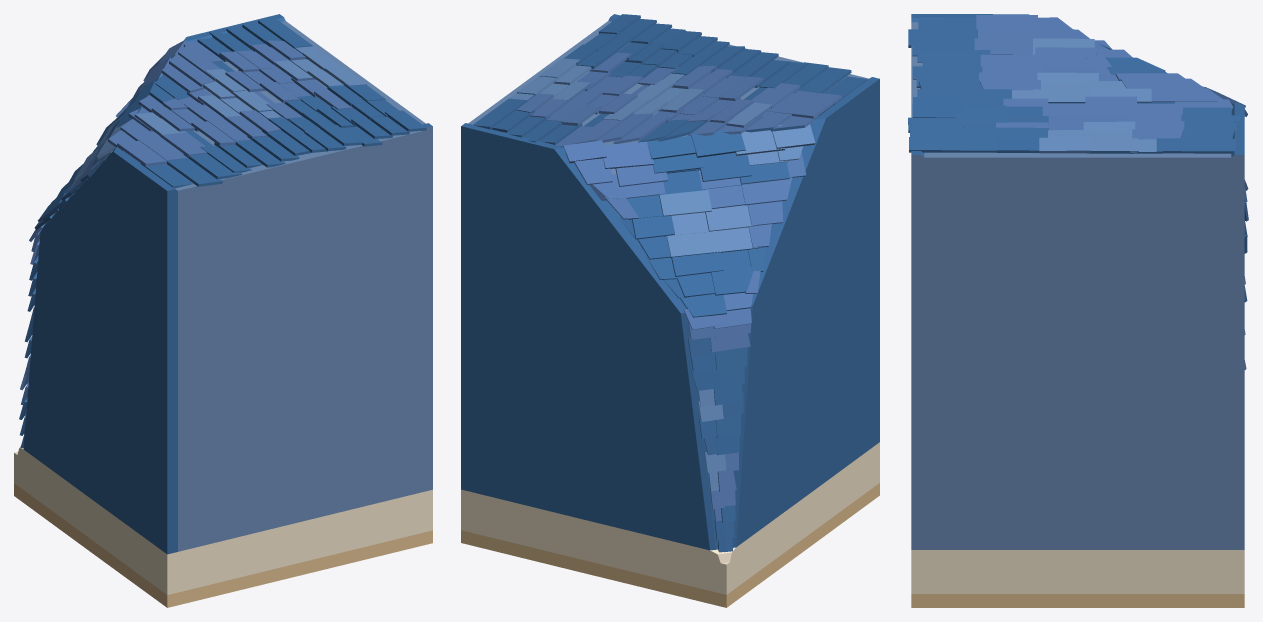
File: Roof_Corner_INNER.fbx
3 renders of one model, left to right at view 1: azimuth 30°, elevation 25°; view 2: azimuth 150°, elevation 25°; view 3: azimuth 270°, elevation 25°, orthographic. The views are drawn at different scales.
Parts seen in each view (by area): view 1: Roof_Corner_INNER; view 2: Roof_Corner_INNER; view 3: Roof_Corner_INNER.
Boxes of the visible parts, x1,y1,x2,y2 form: Roof_Corner_INNER: (14, 14, 432, 607); Roof_Corner_INNER: (461, 14, 879, 607); Roof_Corner_INNER: (908, 14, 1248, 607).
Size of the model in its own units: 204 by 205 by 303.
